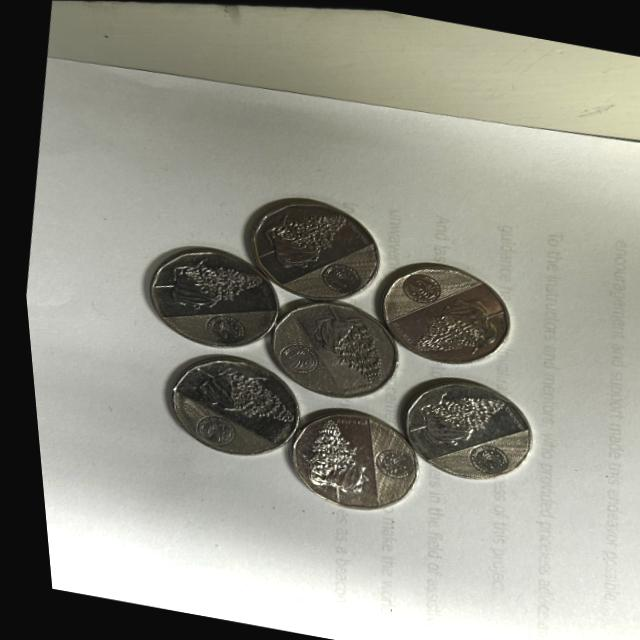10_New_Back: (296, 300, 399, 387), (176, 351, 290, 425), (283, 420, 378, 504), (396, 295, 503, 358), (249, 199, 340, 271), (150, 256, 261, 311), (396, 386, 506, 437)
